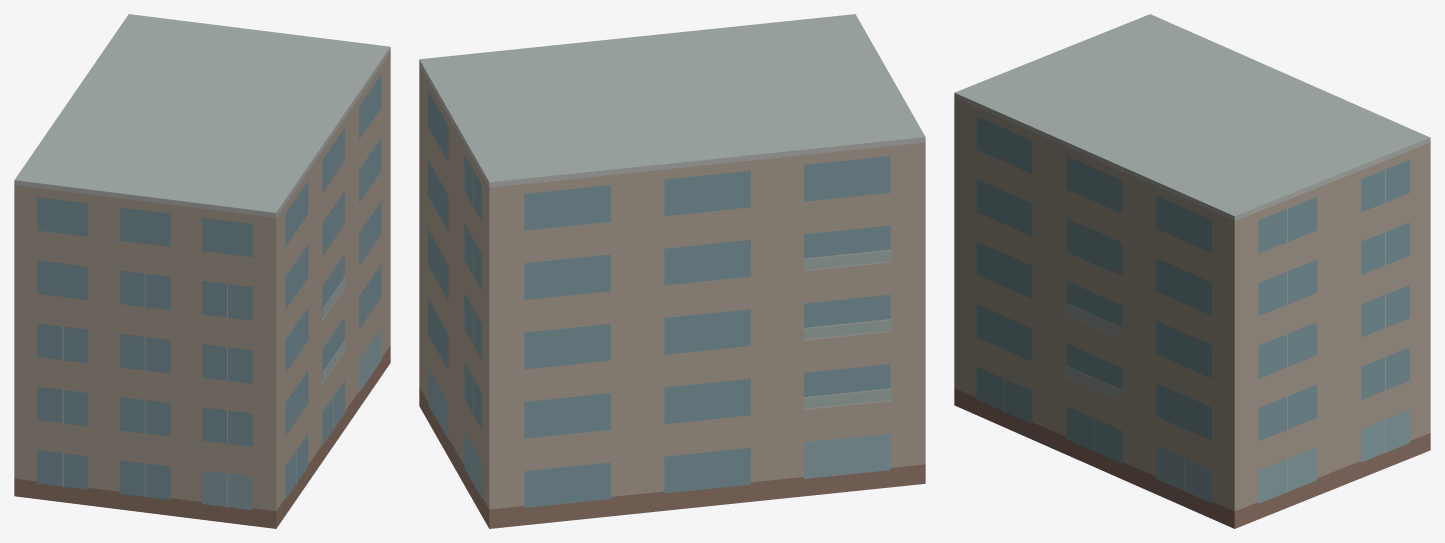
Rendered from survey-upis-32622813.glb.
3 views of the same model, side by side, from view 1: azimuth 30°, elevation 25°; view 2: azimuth 150°, elevation 25°; view 3: azimuth 270°, elevation 25° (orthographic). The views are drawn at different scales.
Visible parts, largest first — view 1: survey-upis-32622813.tmp; view 2: survey-upis-32622813.tmp; view 3: survey-upis-32622813.tmp.
Part boxes in pixels (x1=…): survey-upis-32622813.tmp: x1=14, y1=14, x2=390, y2=528; survey-upis-32622813.tmp: x1=419, y1=14, x2=925, y2=528; survey-upis-32622813.tmp: x1=954, y1=14, x2=1430, y2=528.
Bounding box in the file's own units: 21.58 × 15.55 × 21.47.
